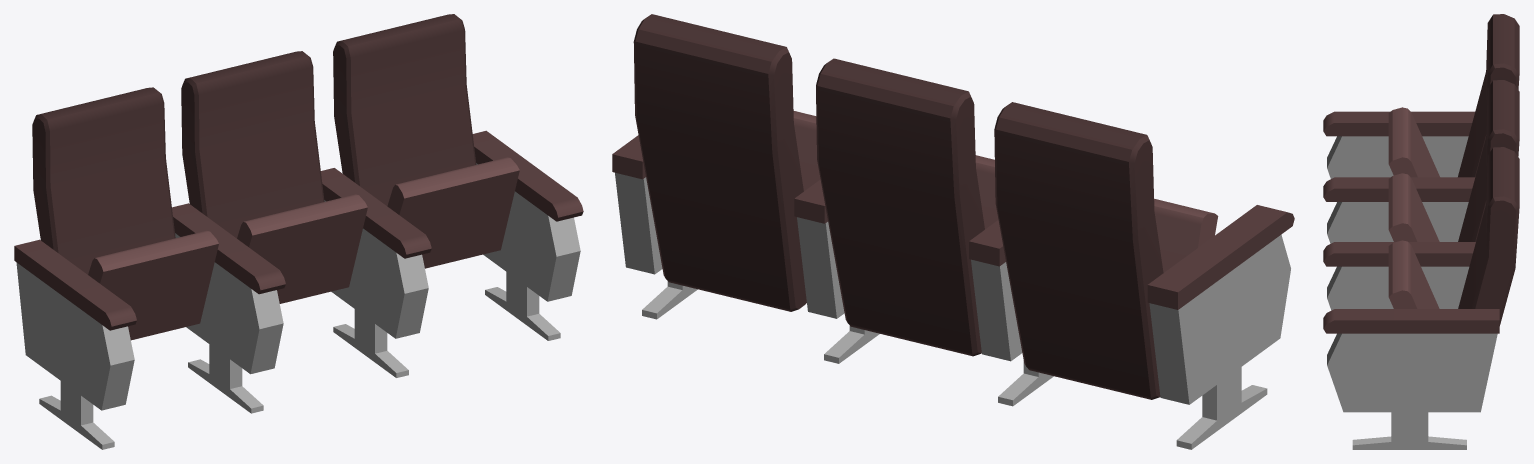
Rendered from ScreenRoomChair.fbx.
The picture shows the model from 3 angles, left to right: view 1: azimuth 30°, elevation 25°; view 2: azimuth 150°, elevation 25°; view 3: azimuth 270°, elevation 25°; orthographic projection. The views are drawn at different scales.
Parts seen in each view (by area): view 1: polySurface13, polySurface7, polySurface6, polySurface10, polySurface11, polySurface8, polySurface5, polySurface2, polySurface12, polySurface3, polySurface9, polySurface1 (+2 smaller); view 2: polySurface13, polySurface7, polySurface6, polySurface10, polySurface9, polySurface2, polySurface12, polySurface3, polySurface8, polySurface11, polySurface5, polySurface1 (+2 smaller); view 3: polySurface12, polySurface13, polySurface14, polySurface3, polySurface10, polySurface2, polySurface6, polySurface7, polySurface9, polySurface4, polySurface1, polySurface8 (+2 smaller).
Boxes of the visible parts, x1,y1,x2,y2 form: polySurface13: (333,14,476,205); polySurface7: (32,87,175,274); polySurface6: (181,51,324,238); polySurface10: (16,262,134,449); polySurface11: (387,157,519,268); polySurface8: (88,230,218,340); polySurface5: (237,194,367,303); polySurface2: (175,233,283,413); polySurface12: (476,163,580,340); polySurface3: (324,200,428,377); polySurface9: (14,239,136,330); polySurface1: (172,203,285,294); polySurface13: (633,14,806,311); polySurface7: (994,102,1163,399); polySurface6: (816,58,984,356); polySurface10: (1149,234,1290,449); polySurface9: (1147,205,1294,309); polySurface2: (971,259,1053,406); polySurface12: (615,172,697,319); polySurface3: (797,217,879,363); polySurface8: (1154,198,1218,272); polySurface11: (793,111,820,191); polySurface5: (975,155,998,229); polySurface1: (969,220,1005,266); polySurface12: (1327,333,1497,449); polySurface13: (1458,147,1519,325); polySurface14: (1323,309,1499,333); polySurface3: (1327,266,1469,310); polySurface10: (1327,136,1468,178); polySurface2: (1327,202,1468,243); polySurface6: (1458,80,1519,241); polySurface7: (1458,14,1519,177); polySurface9: (1323,111,1474,136); polySurface4: (1323,242,1475,266); polySurface1: (1323,177,1475,201); polySurface8: (1388,107,1439,177).
Size of the model in its own units: 1.94 by 1.06 by 0.7714.
